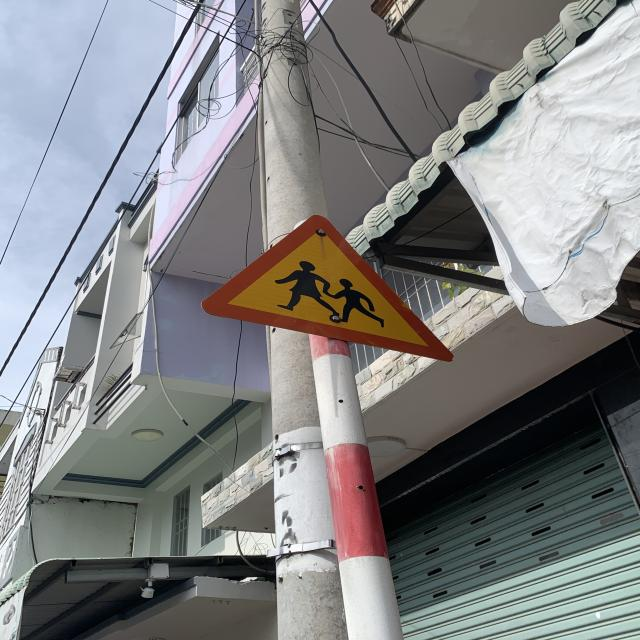Vong_Xuyen: (204, 216, 455, 363)
